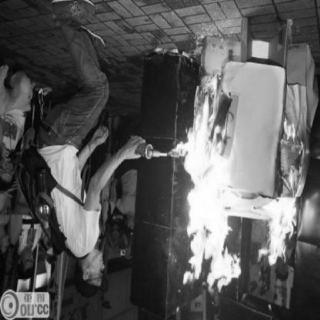Fire: (166, 75, 244, 293), (256, 117, 308, 263)
other: (18, 273, 51, 289)
